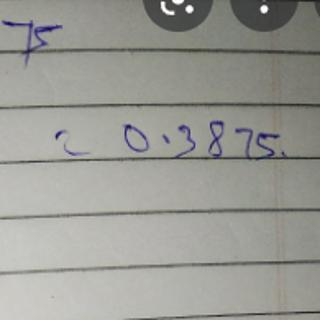.: (153, 131, 174, 148)
0: (123, 122, 149, 154)
2: (55, 121, 92, 159)
3: (172, 125, 195, 161)
5: (256, 129, 279, 159)
7: (234, 122, 255, 160)
8: (203, 119, 227, 156)
